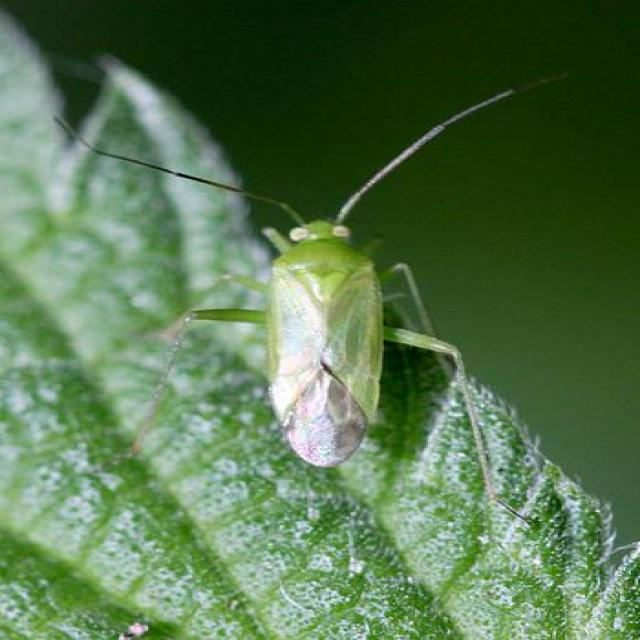Miridae-Adult-: (76, 68, 532, 481)
